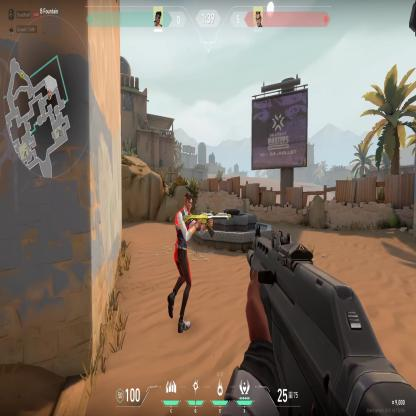enemy: (164, 190, 200, 338)
